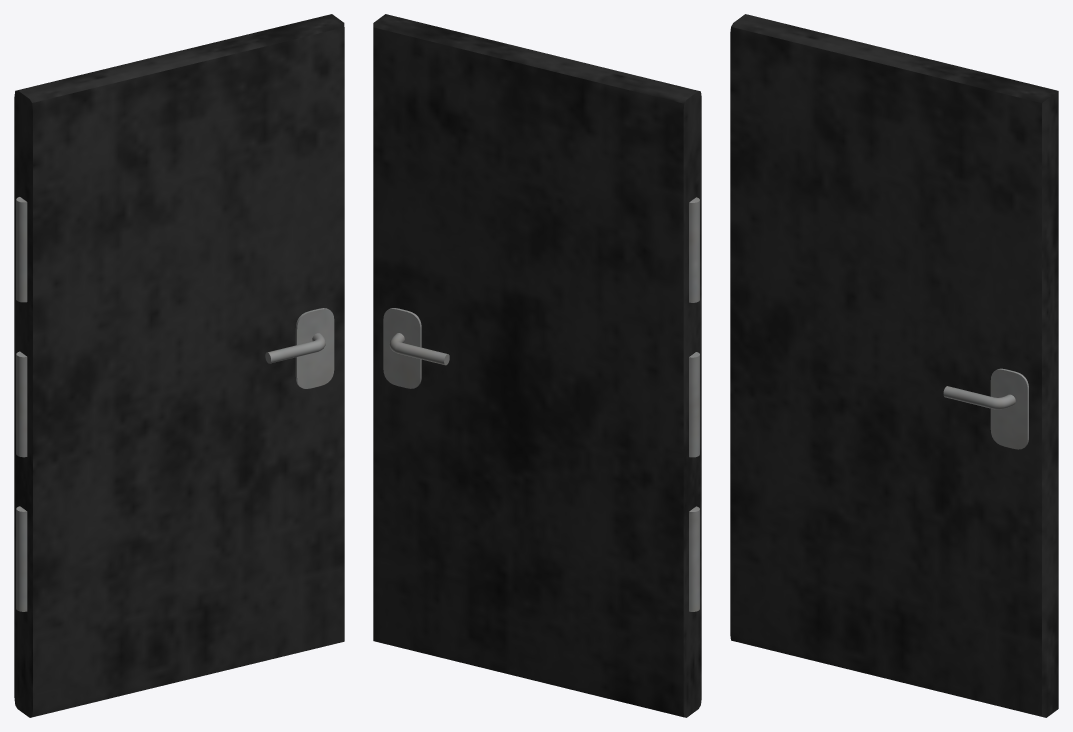
File: door_fix 1.fbx
3 renders of one model, left to right at view 1: azimuth 30°, elevation 25°; view 2: azimuth 150°, elevation 25°; view 3: azimuth 330°, elevation 25°, orthographic.
Parts seen in each view (by area): view 1: door; view 2: door; view 3: door.
Boxes of the visible parts, x1,y1,x2,y2 form: door: (14,14,344,717); door: (373,14,701,717); door: (730,14,1058,717).
Bounding box in the file's own units: 1.28 × 2.36 × 0.3098.
Materials: 1 (1 with a texture image).
